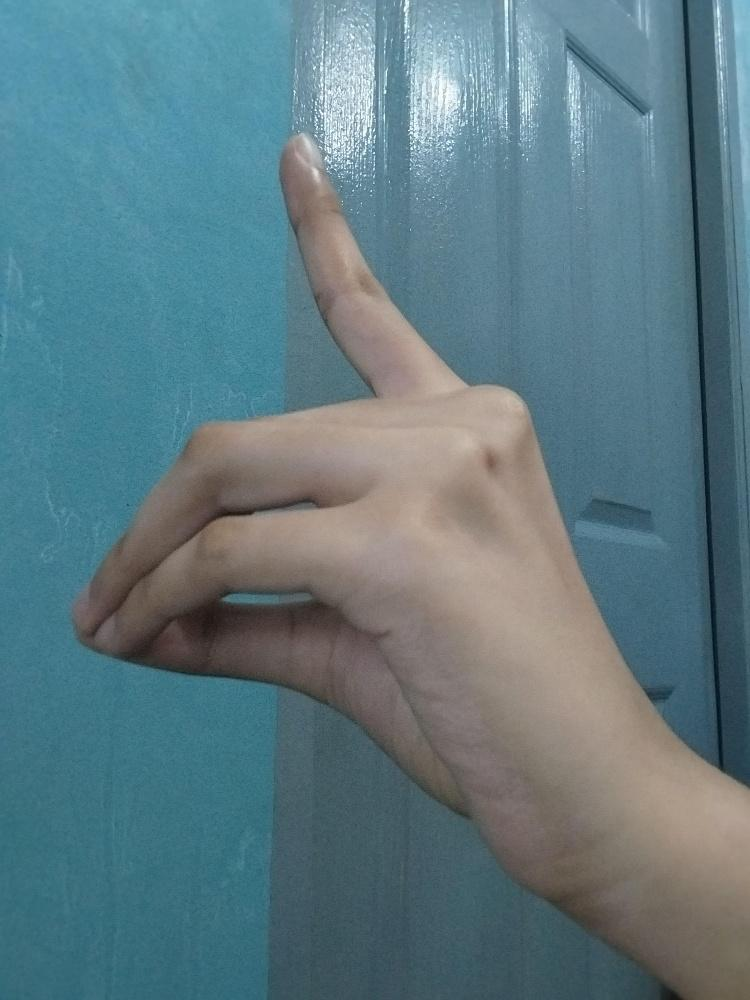d: (71, 131, 570, 853)
